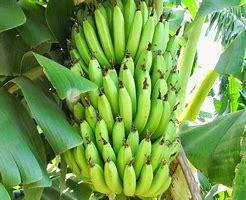banana: (72, 1, 190, 185), (75, 122, 181, 197), (83, 63, 175, 129), (71, 0, 179, 50)
